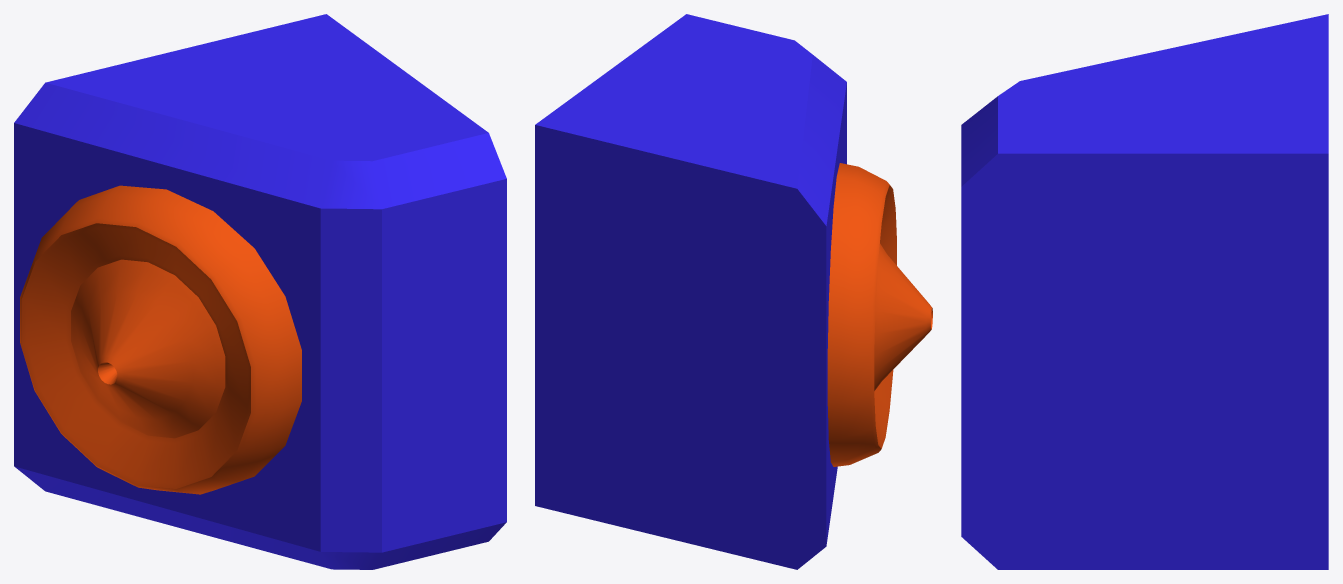
Rendered from SM_Fan_25x20.FBX.
3 views of the same model, side by side, from view 1: azimuth 30°, elevation 25°; view 2: azimuth 150°, elevation 25°; view 3: azimuth 270°, elevation 25° (orthographic). The views are drawn at different scales.
Visible parts, largest first — view 1: Fan_25x20, Fanx20x20; view 2: Fan_25x20, Fanx20x20; view 3: Fan_25x20.
Boxes of the visible parts, x1,y1,x2,y2 form: Fan_25x20: [14, 14, 506, 569]; Fanx20x20: [20, 185, 301, 494]; Fan_25x20: [535, 14, 846, 569]; Fanx20x20: [827, 163, 932, 466]; Fan_25x20: [961, 14, 1328, 569].
Size of the model in its own units: 21.4 by 20 by 25.
